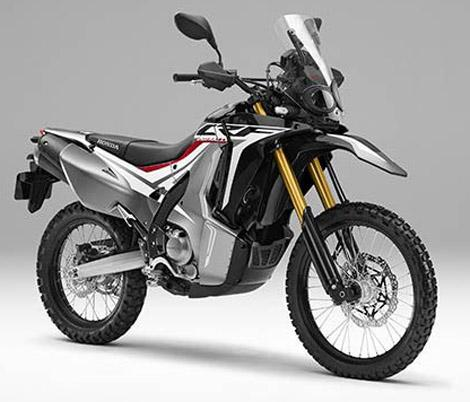motorbike: (14, 10, 438, 381)
